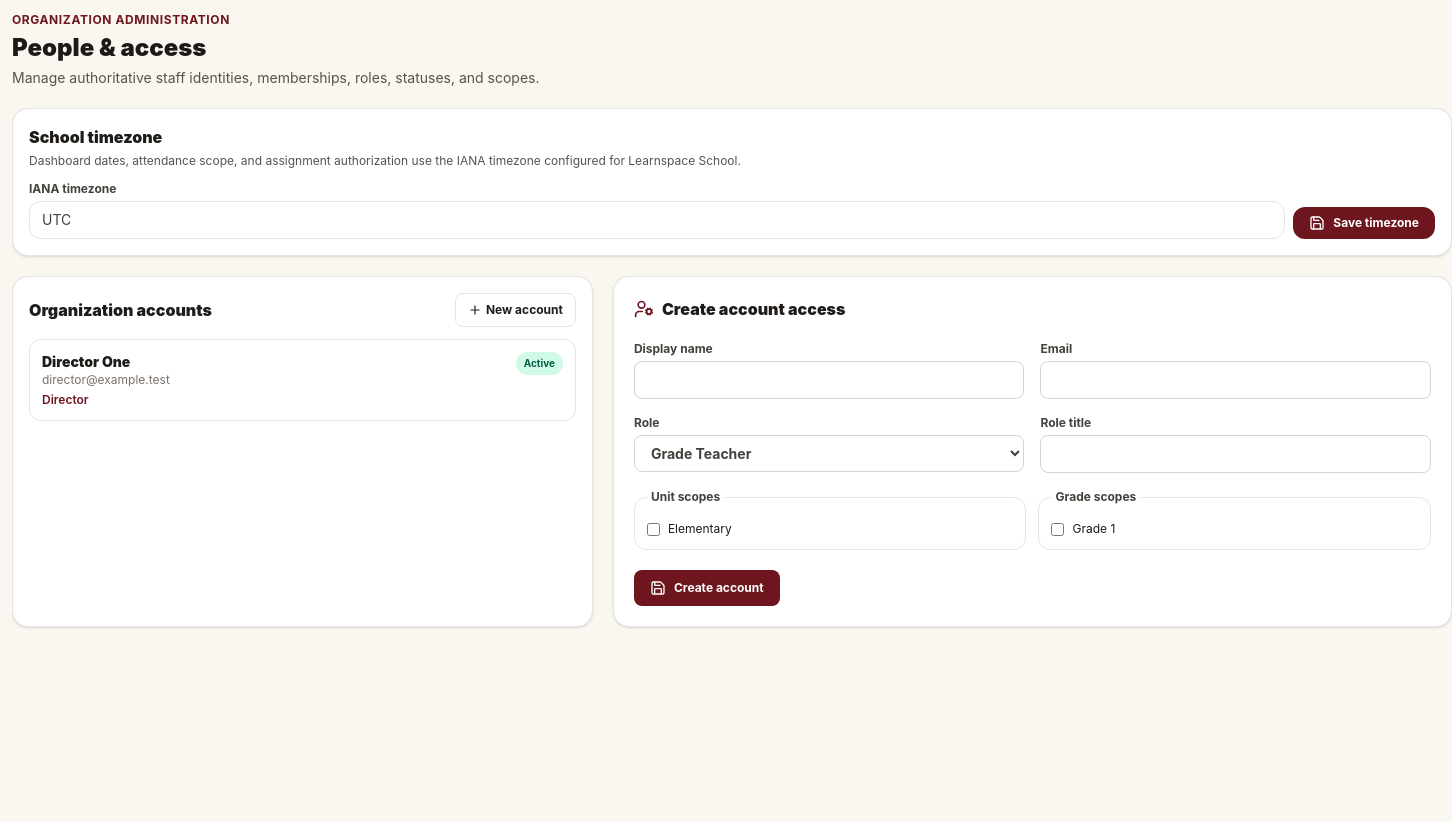
Test: PeopleAccessView › renders save failures as errors rather than success feedback
Expected: the heading "People & access" is shown, [12,33,206,62]
Click the button "Director One director@example.test Director Active" at (86, 362), box [29,339,576,421]
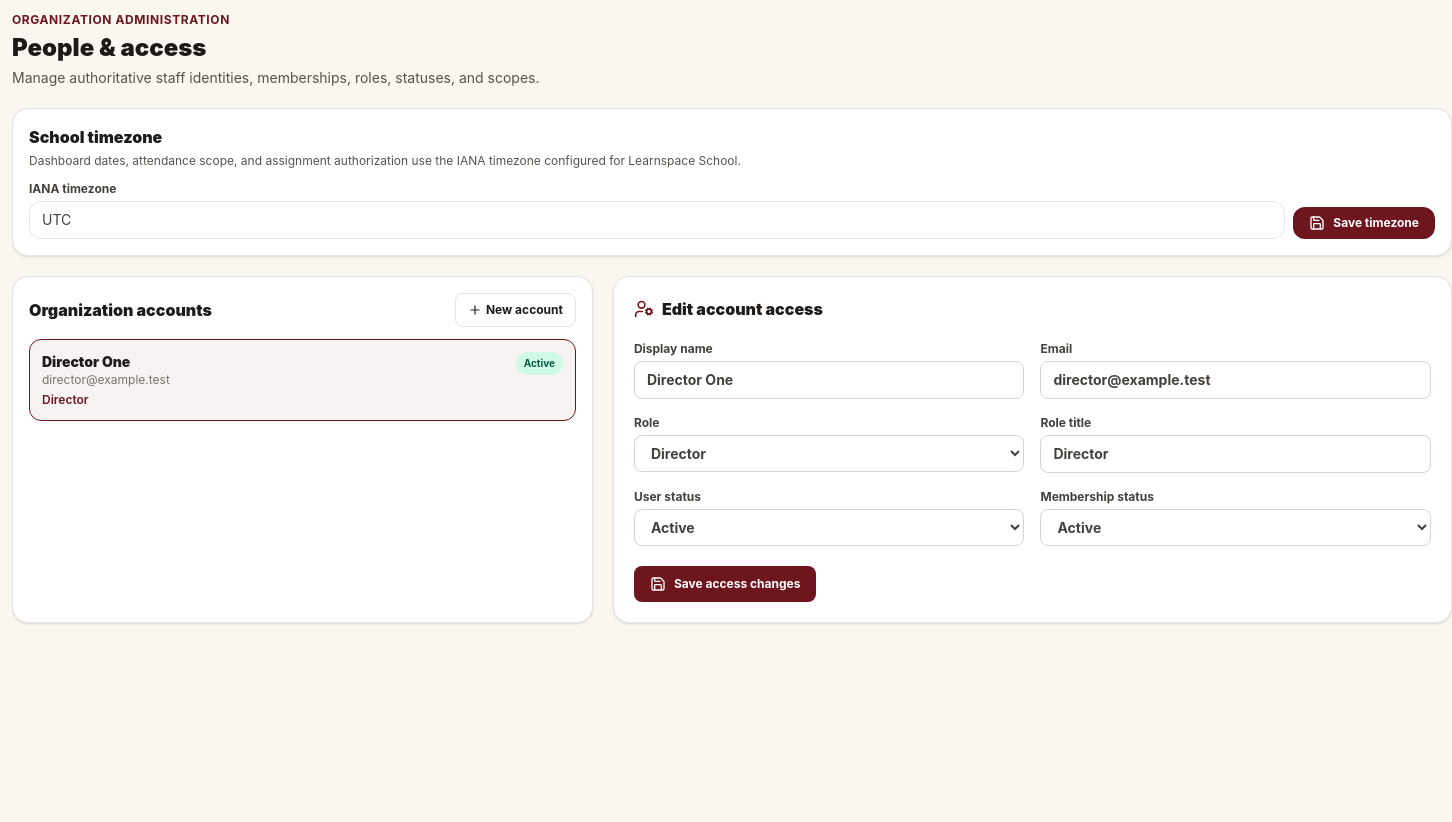
Click the button "Save access changes" at (725, 584), box [634,566,816,602]
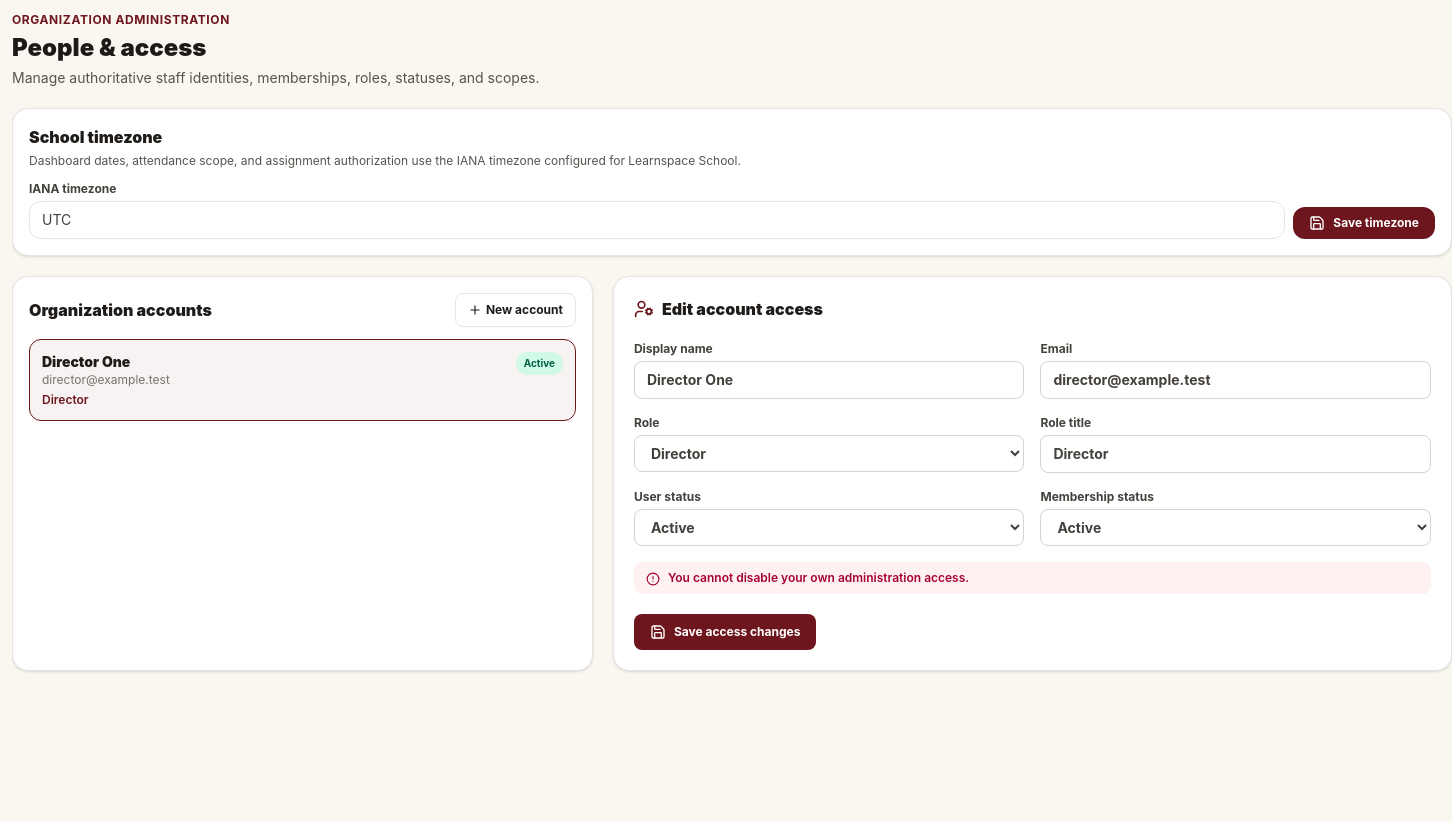
Result: the message reads "You cannot disable your own administration access." at [668,570,969,585]
